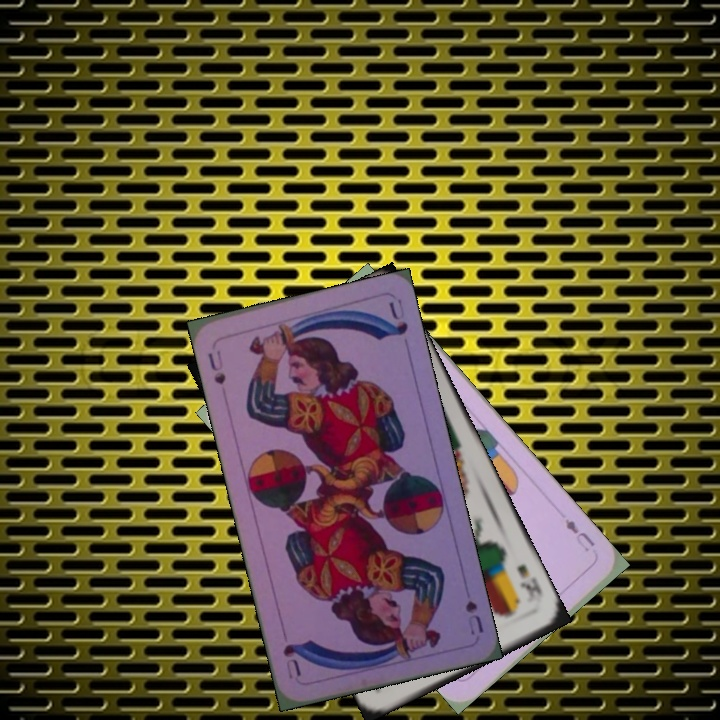EK: (512, 560, 546, 607)
EU: (560, 514, 598, 555)
SU: (461, 597, 487, 638), (204, 346, 228, 387)
